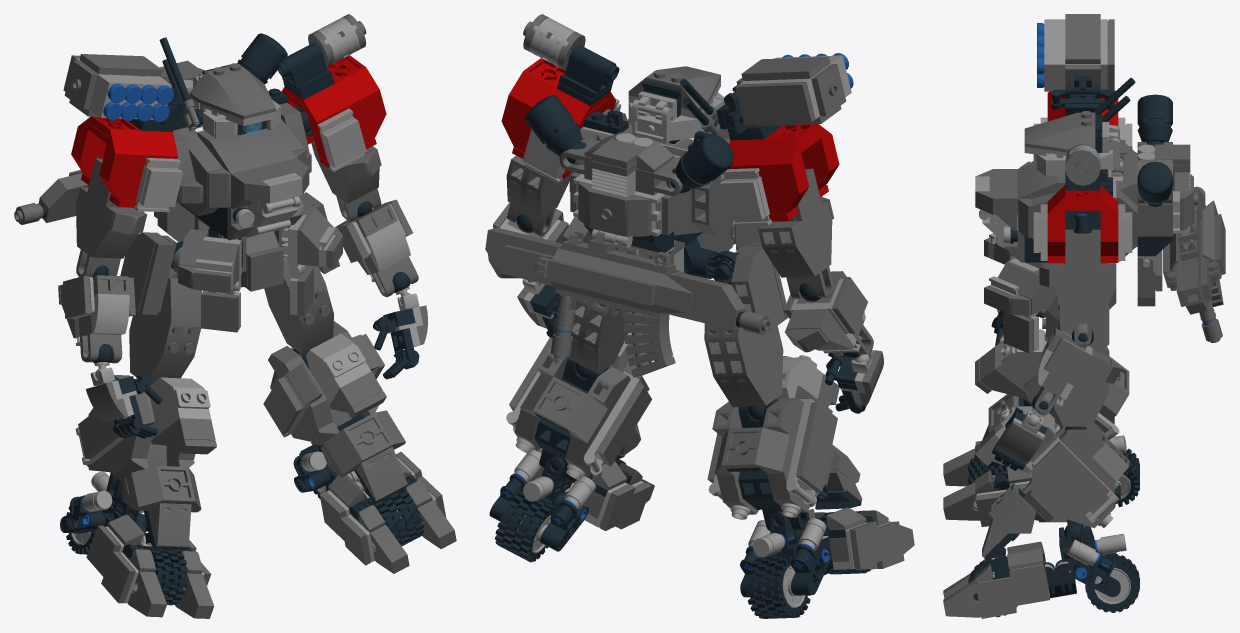
The model's file is hacs-01mg-mp-hunter.dae.
The picture shows the model from 3 angles, left to right: view 1: azimuth 30°, elevation 25°; view 2: azimuth 150°, elevation 25°; view 3: azimuth 270°, elevation 25°; orthographic projection. The views are drawn at different scales.
Bounding box in the file's own units: 413 × 320 × 610.
